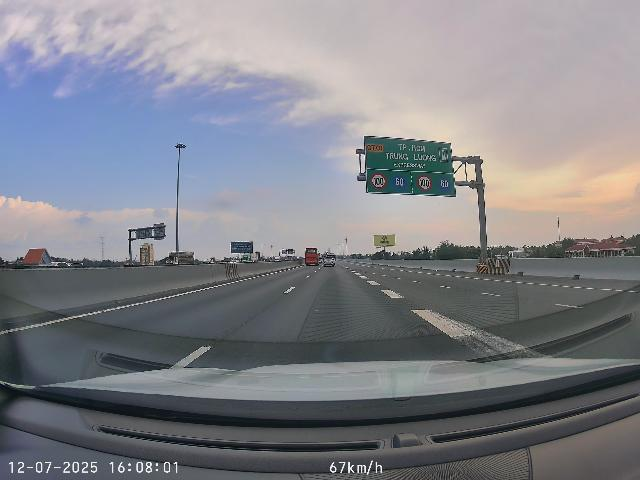127-toc-do-toi-da-100: (370, 172, 387, 189), (417, 174, 432, 191)
306-toc-do-toi-thieu-60: (391, 174, 407, 189), (438, 176, 451, 192)
437-bat-dau-duong-cao-toc: (438, 148, 449, 163)
